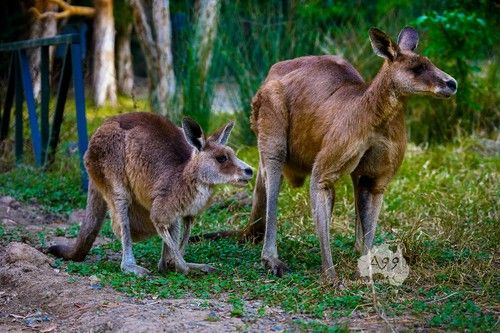kangaroo: (188, 27, 460, 290), (44, 107, 256, 276)
